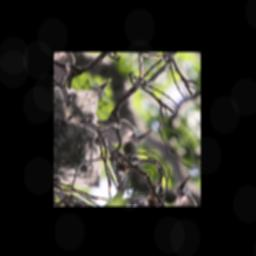Cuckoo: (77, 84, 155, 169)
